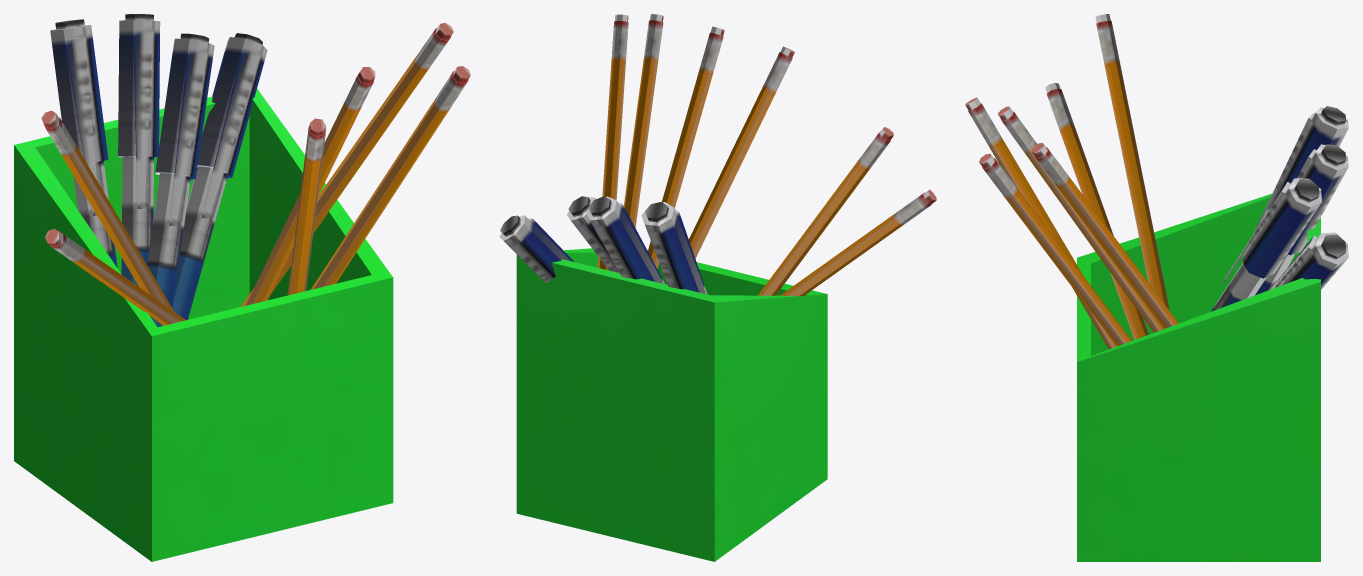
The model's file is PencilHolder1.FBX.
3 views of the same model, side by side, from view 1: azimuth 30°, elevation 25°; view 2: azimuth 150°, elevation 25°; view 3: azimuth 270°, elevation 25° (orthographic). The views are drawn at different scales.
Visible parts, largest first — view 1: PencilHolder; view 2: PencilHolder; view 3: PencilHolder.
Part boxes in pixels (x1,y1,x2,y2): PencilHolder: [14, 14, 470, 561]; PencilHolder: [499, 14, 936, 561]; PencilHolder: [965, 14, 1348, 561].
Bounding box in the file's own units: 15.4 × 18 × 14.52.
